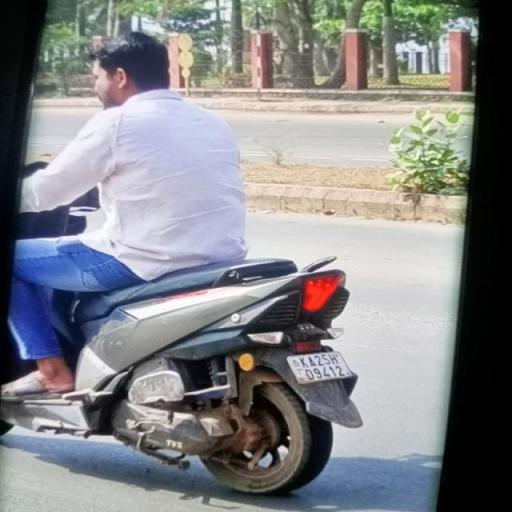bike: (6, 32, 364, 496)
numberplate: (283, 340, 354, 386)
withouthelmet: (97, 36, 166, 97)
